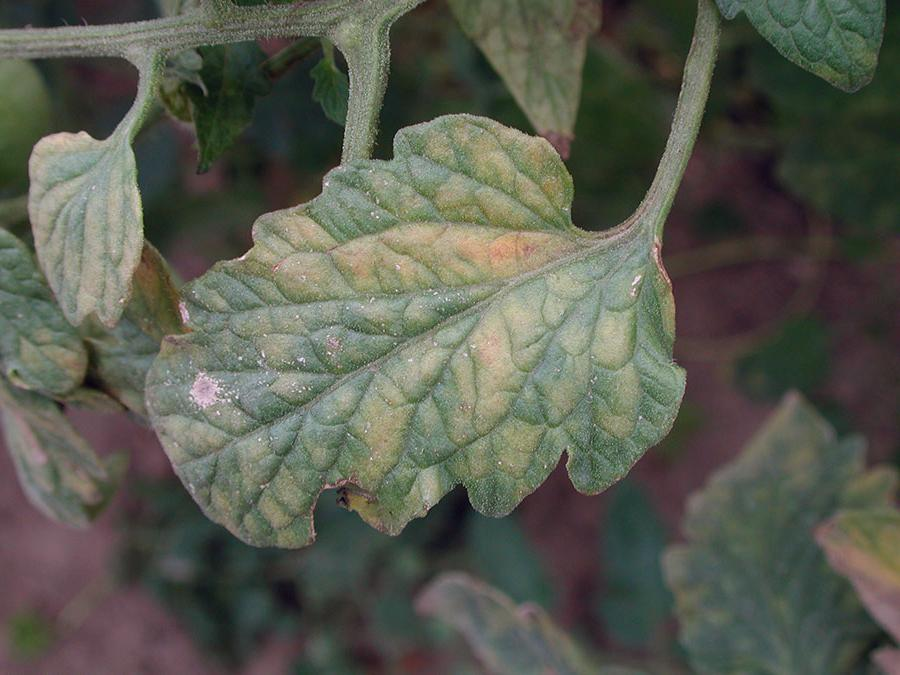Tomato mold leaf: (130, 114, 689, 573), (34, 129, 154, 353)
